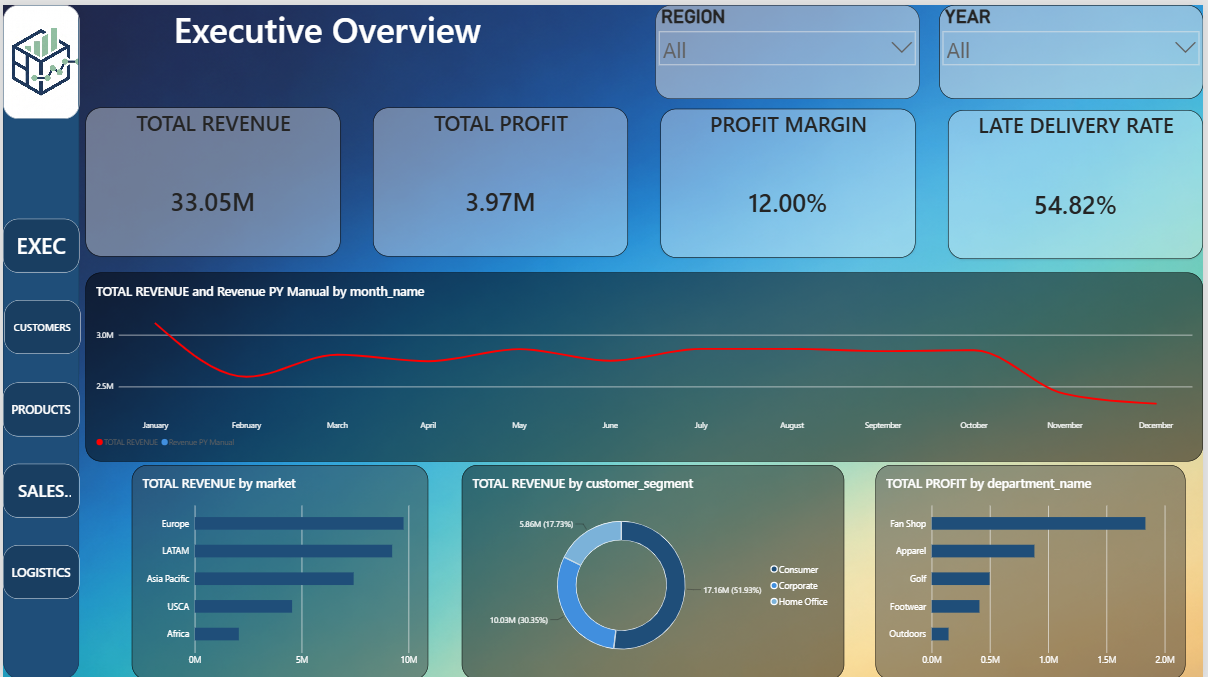

The page's visual inventory and layout, read from the dashboard file:
{"tool":"powerbi","page":{"name":"EXEC","canvas":[1920,1080],"ordinal":0},"visuals":[{"type":"shape","box":[0,0,122,1080],"z":0},{"type":"cardVisual","title":"TOTAL REVENUE","fields":{"Data":["KEY_MEASURES.TOTAL REVENUE"]},"box":[131.7,164.9,408,238],"z":3000},{"type":"textbox","box":[132,0,774,76],"z":5000},{"type":"slicer","fields":{"Values":["gold dim_date.year"]},"box":[1498,0,422,150],"z":6000},{"type":"slicer","fields":{"Values":["gold fact_orders.market"]},"box":[1044,0,422,150],"z":7000},{"type":"cardVisual","title":"TOTAL PROFIT","fields":{"Data":["KEY_MEASURES.TOTAL PROFIT"]},"box":[591.8,163.3,408,238],"z":7001},{"type":"cardVisual","title":"PROFIT MARGIN","fields":{"Data":["KEY_MEASURES.Profit Margin"]},"box":[1051.9,166.4,408,238],"z":7002},{"type":"cardVisual","title":"LATE DELIVERY RATE","fields":{"Data":["KEY_MEASURES.Late Delivery Rate"]},"box":[1512,168,408,238],"z":7003},{"type":"lineChart","fields":{"Category":["gold dim_date.month_name"],"Y":["KEY_MEASURES.TOTAL REVENUE","KEY_MEASURES.Revenue PY Manual"]},"box":[132,428,1788,302],"z":7004},{"type":"donutChart","fields":{"Category":["gold dim_customers.customer_segment"],"Y":["KEY_MEASURES.TOTAL REVENUE"]},"box":[734,736,612,344],"z":7005},{"type":"clusteredBarChart","fields":{"Category":["gold fact_orders.market"],"Y":["KEY_MEASURES.TOTAL REVENUE"]},"box":[206,736,474,344],"z":7006},{"type":"clusteredBarChart","fields":{"Category":["gold dim_products.department_name"],"Y":["KEY_MEASURES.TOTAL PROFIT"]},"box":[1396,736,496,344],"z":7007},{"type":"actionButton","title":"EXEC","box":[0,342,122,86],"z":7008},{"type":"actionButton","box":[2,472.5,122,86],"z":7009},{"type":"actionButton","box":[0,603,122,86],"z":7010},{"type":"actionButton","box":[0,733.5,122,86],"z":7011},{"type":"image","box":[0,0,122,182],"z":7012},{"type":"actionButton","box":[0,864,122,86],"z":7013}]}

Visuals, with their boxes in screenshot pixels (x1, y1, x2, y2), scaled from the page's 1920x1080 canvas onto the 1208x677 screenshot:
shape: left=0, top=0, right=77, bottom=676
"TOTAL REVENUE" cardVisual: left=83, top=103, right=340, bottom=253
textbox: left=83, top=0, right=570, bottom=48
slicer - gold dim_date.year: left=942, top=0, right=1207, bottom=94
slicer - gold fact_orders.market: left=657, top=0, right=922, bottom=94
"TOTAL PROFIT" cardVisual: left=372, top=102, right=629, bottom=252
"PROFIT MARGIN" cardVisual: left=662, top=104, right=919, bottom=253
"LATE DELIVERY RATE" cardVisual: left=951, top=105, right=1207, bottom=255
lineChart - gold dim_date.month_name x KEY_MEASURES.TOTAL REVENUE: left=83, top=268, right=1207, bottom=458
donutChart - gold dim_customers.customer_segment x KEY_MEASURES.TOTAL REVENUE: left=462, top=461, right=847, bottom=676
clusteredBarChart - gold fact_orders.market x KEY_MEASURES.TOTAL REVENUE: left=130, top=461, right=428, bottom=676
clusteredBarChart - gold dim_products.department_name x KEY_MEASURES.TOTAL PROFIT: left=878, top=461, right=1190, bottom=676
"EXEC" actionButton: left=0, top=214, right=77, bottom=268
actionButton: left=1, top=296, right=78, bottom=350
actionButton: left=0, top=378, right=77, bottom=432
actionButton: left=0, top=460, right=77, bottom=514
image: left=0, top=0, right=77, bottom=114
actionButton: left=0, top=542, right=77, bottom=596
